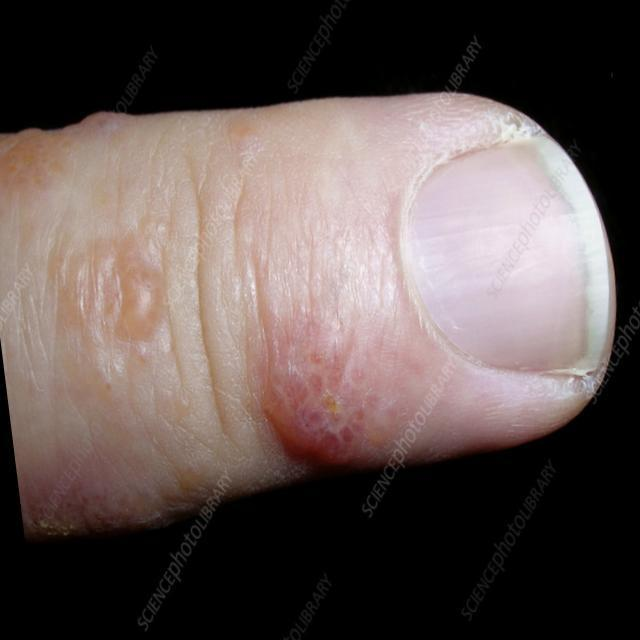Eczema: (19, 143, 358, 463)
